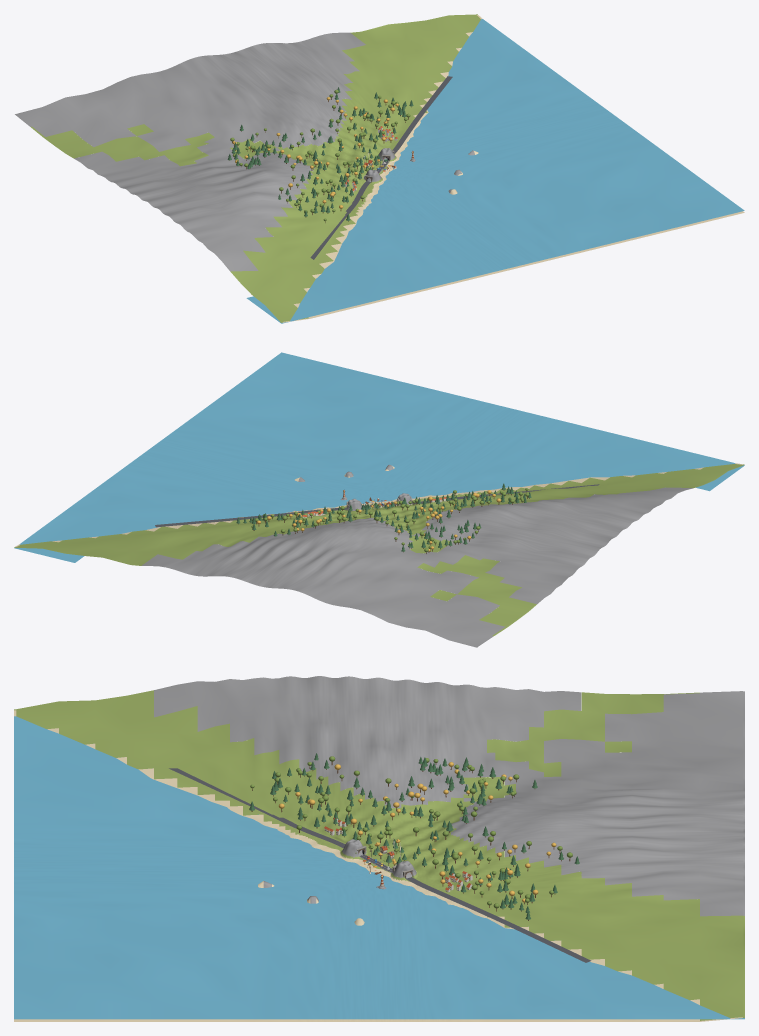
The model's file is drive.glb.
The picture shows the model from 3 angles, top to bottom: view 1: azimuth 30°, elevation 25°; view 2: azimuth 150°, elevation 25°; view 3: azimuth 270°, elevation 25°; orthographic projection. The views are drawn at different scales.
Parts seen in each view (by area): view 1: far_ground, liquid_sea_far, far_trees_pine_distant, far_trees_leaf_green_distant, far_trees_leaf_orange_distant, static; view 2: liquid_sea_far, far_ground, far_trees_pine_distant, far_trees_leaf_green_distant, far_trees_leaf_orange_distant; view 3: far_ground, liquid_sea_far, far_trees_pine_distant, far_trees_leaf_green_distant, static, far_trees_leaf_orange_distant, far_road_1, far_road_0, far_trees_trunk_distant.
Boxes of the visible parts, box(x1,y1,x2,y2) form: far_ground: box(15, 14, 744, 322); liquid_sea_far: box(246, 19, 744, 323); far_trees_pine_distant: box(227, 87, 413, 220); far_trees_leaf_green_distant: box(230, 89, 410, 221); far_trees_leaf_orange_distant: box(232, 97, 398, 208); static: box(353, 149, 414, 177); liquid_sea_far: box(14, 352, 744, 562); far_ground: box(14, 463, 744, 647); far_trees_pine_distant: box(236, 483, 531, 551); far_trees_leaf_green_distant: box(251, 488, 529, 552); far_trees_leaf_orange_distant: box(257, 490, 501, 551); far_ground: box(14, 676, 744, 1021); liquid_sea_far: box(14, 716, 744, 1019); far_trees_pine_distant: box(249, 753, 579, 919); far_trees_leaf_green_distant: box(250, 756, 572, 908); static: box(353, 840, 405, 889); far_trees_leaf_orange_distant: box(278, 762, 556, 902); far_road_1: box(405, 877, 591, 962); far_road_0: box(169, 768, 345, 848); far_trees_trunk_distant: box(251, 761, 570, 920).
Size of the model in its own units: 220 by 13.02 by 220.
